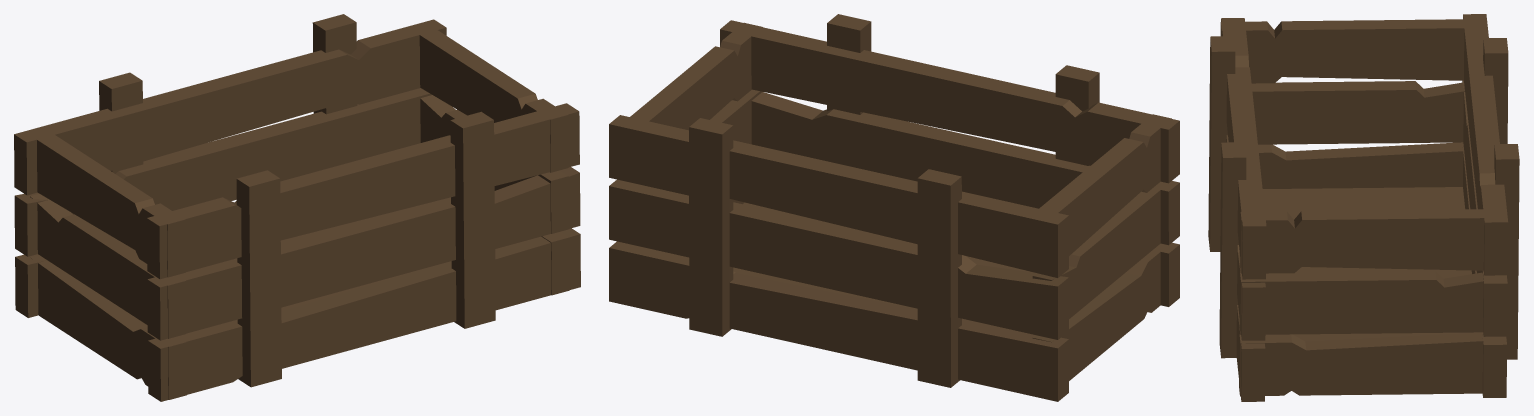
3 views of the same model, side by side, from view 1: azimuth 30°, elevation 25°; view 2: azimuth 150°, elevation 25°; view 3: azimuth 270°, elevation 25° (orthographic).
Visible parts, largest first — view 1: Market Scene.022; view 2: Market Scene.022; view 3: Market Scene.022.
Boxes of the visible parts, x1,y1,x2,y2 form: Market Scene.022: [14, 14, 580, 401]; Market Scene.022: [609, 14, 1179, 401]; Market Scene.022: [1208, 14, 1519, 401].
Bounding box in the file's own units: 546 × 239 × 331.
